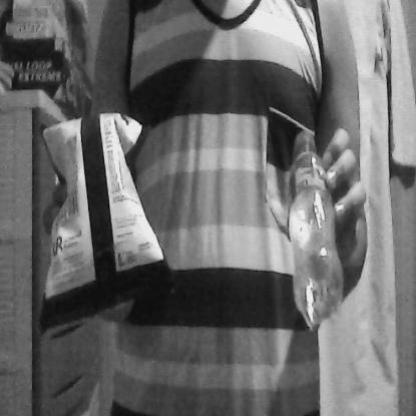Plastic Bottle: (276, 116, 350, 345)
